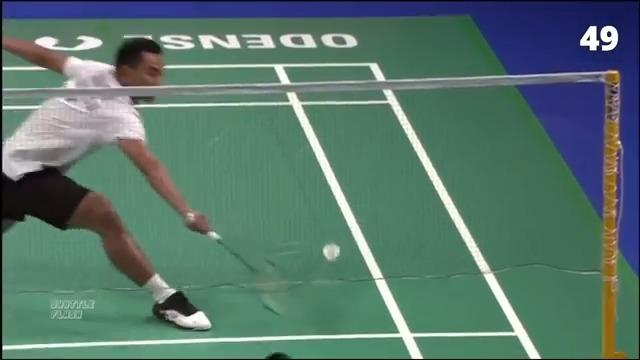Shuttlecock: (321, 240, 344, 268)
